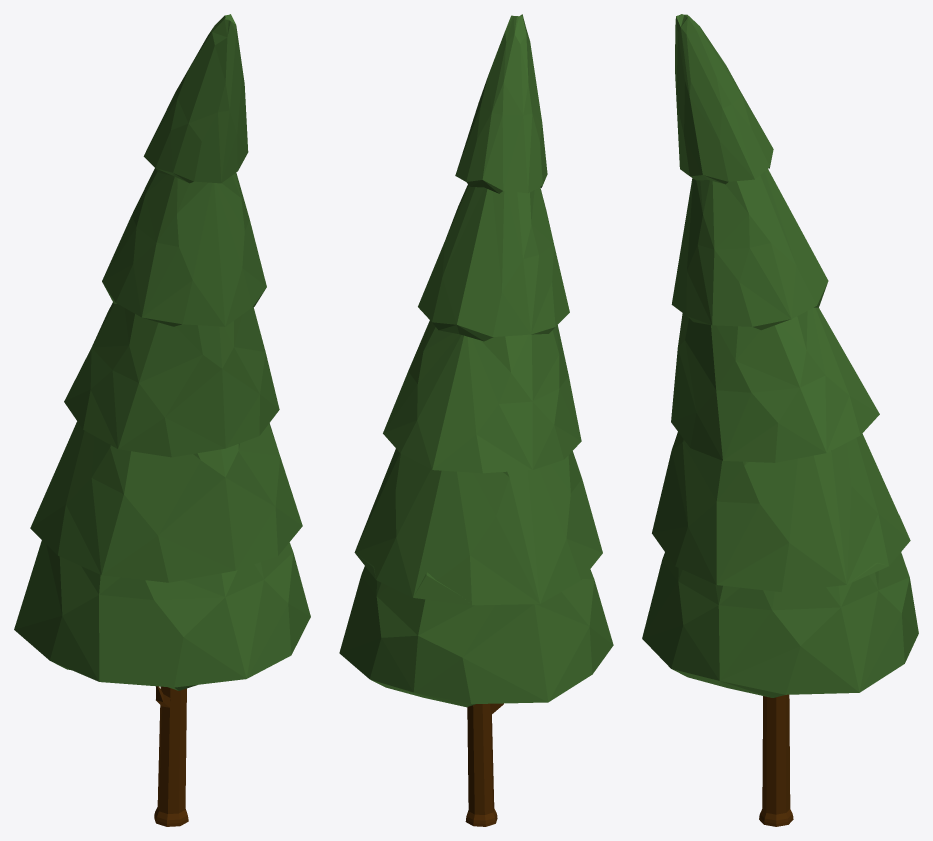
File: SM_Tree2.fbx
The picture shows the model from 3 angles, left to right: view 1: azimuth 30°, elevation 25°; view 2: azimuth 150°, elevation 25°; view 3: azimuth 270°, elevation 25°; orthographic projection. The views are drawn at different scales.
Visible parts, largest first — view 1: Cylinder.000, Cylinder.001; view 2: Cylinder.000, Cylinder.001; view 3: Cylinder.000, Cylinder.001.
Part boxes in pixels (box(x1,y1,x2,y2)): Cylinder.000: box(14, 14, 310, 690); Cylinder.001: box(154, 686, 188, 826); Cylinder.000: box(339, 14, 613, 707); Cylinder.001: box(465, 703, 503, 826); Cylinder.000: box(642, 14, 918, 697); Cylinder.001: box(759, 694, 793, 826).
Bounding box in the file's own units: 144 × 148 × 477.
